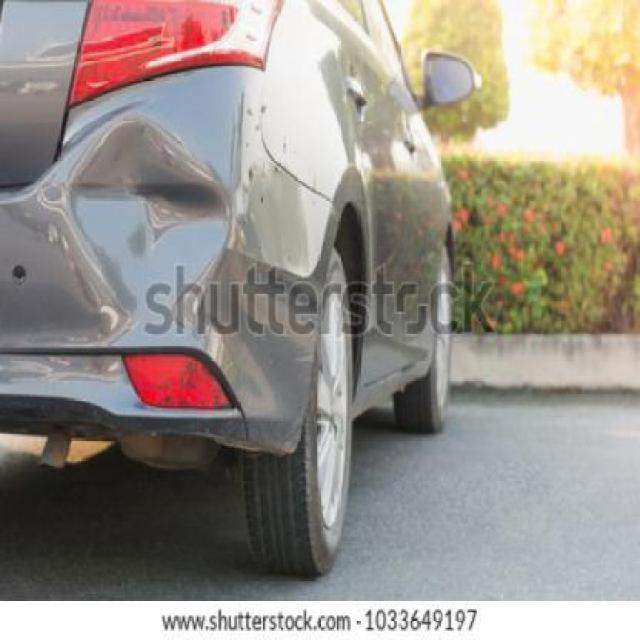rear-bumper-dent: (0, 100, 314, 451)
